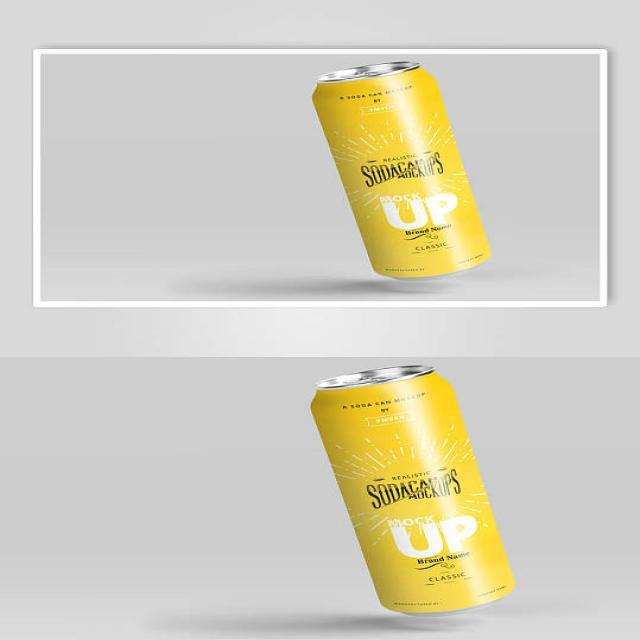can: (311, 365, 514, 615), (313, 61, 492, 278)
